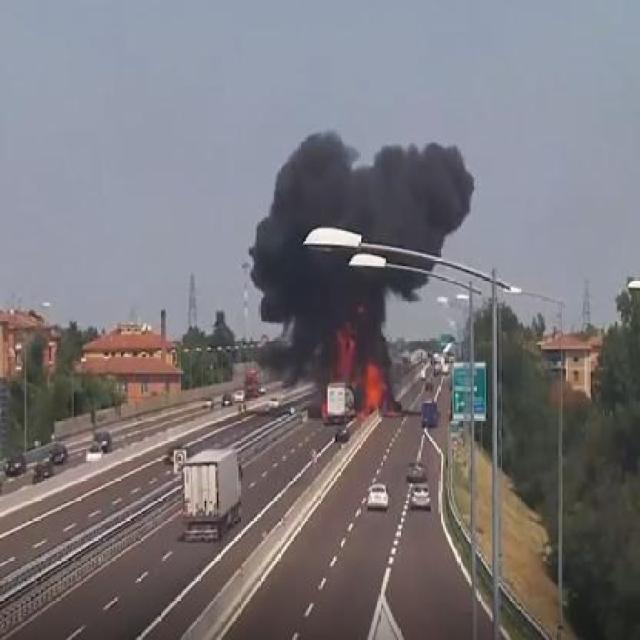Fire: (322, 320, 396, 422)
